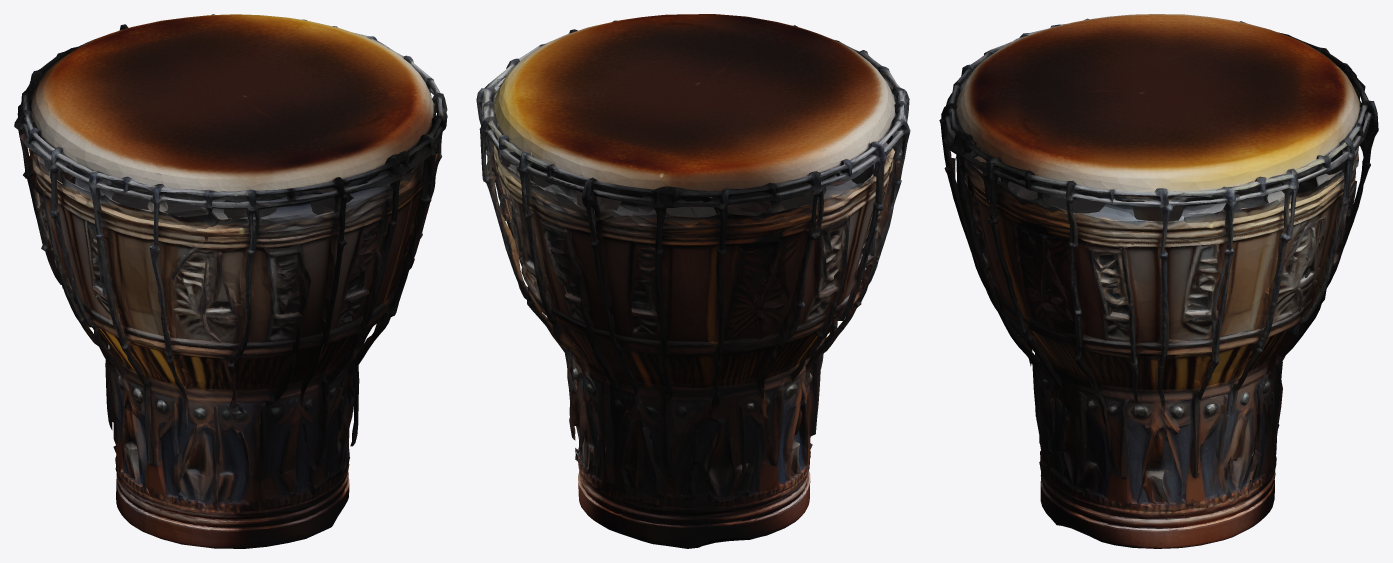
The model's file is wooden-djembe-drum-futuristic.jpeg.glb.
The picture shows the model from 3 angles, left to right: view 1: azimuth 30°, elevation 25°; view 2: azimuth 150°, elevation 25°; view 3: azimuth 270°, elevation 25°; orthographic projection.
Visible parts, largest first — view 1: world; view 2: world; view 3: world.
Boxes of the visible parts, x1,y1,x2,y2 form: world: (14,14,447,548); world: (476,14,910,548); world: (939,14,1378,548).
Bounding box in the file's own units: 0.9494 × 0.9957 × 0.9635.
1 material, 1 textured.
